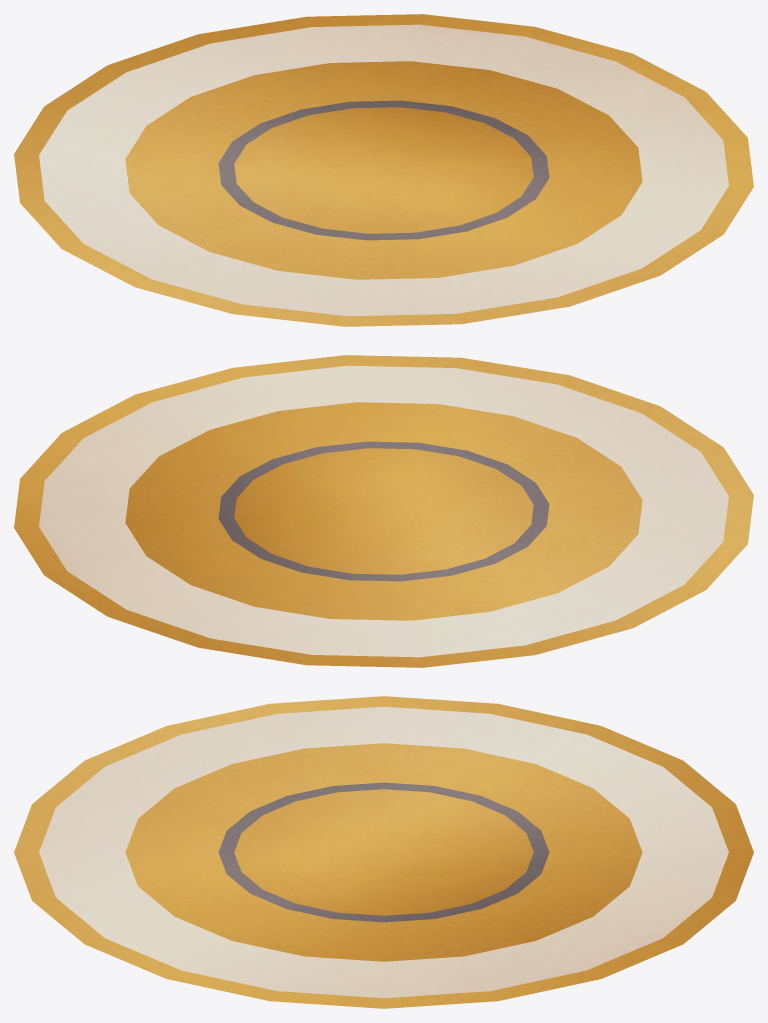
File: SM_cermeon_rug_04.fbx
3 renders of one model, top to bottom at view 1: azimuth 30°, elevation 25°; view 2: azimuth 150°, elevation 25°; view 3: azimuth 270°, elevation 25°, orthographic.
Visible parts, largest first — view 1: SM_cermeon_rug_04; view 2: SM_cermeon_rug_04; view 3: SM_cermeon_rug_04.
Boxes of the visible parts, x1,y1,x2,y2 form: SM_cermeon_rug_04: [14, 14, 753, 326]; SM_cermeon_rug_04: [14, 355, 753, 667]; SM_cermeon_rug_04: [14, 696, 753, 1008].
Bounding box in the file's own units: 3.99 × 0 × 3.99.
